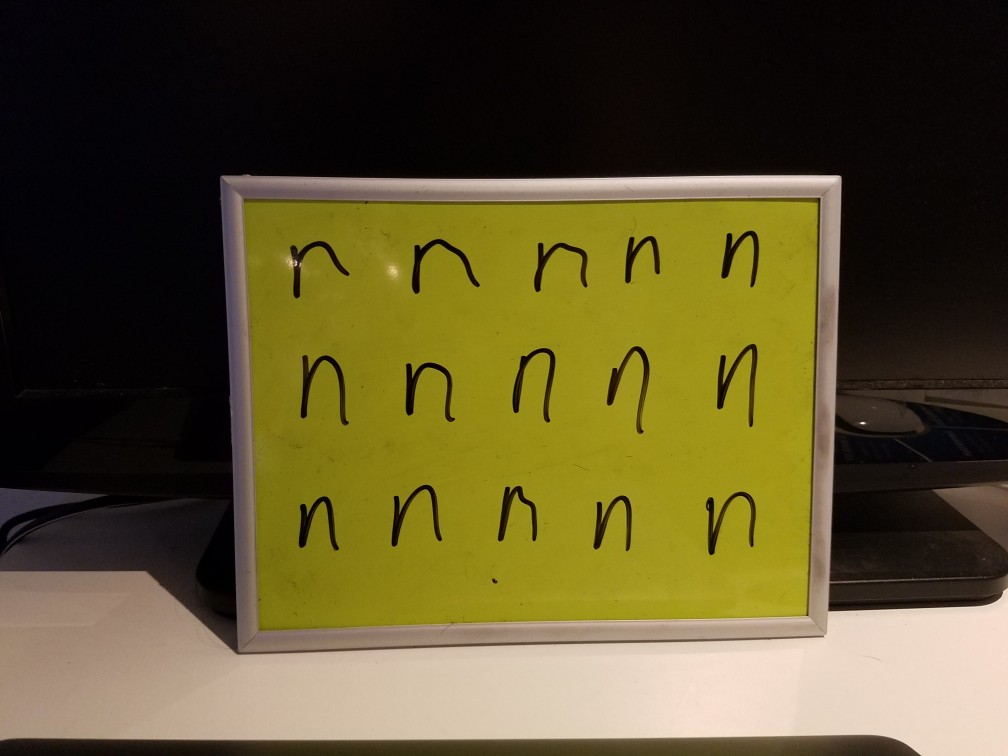n: (497, 330, 574, 440), (593, 333, 663, 441), (509, 223, 598, 304), (383, 345, 462, 435), (704, 328, 773, 428), (287, 340, 364, 429), (380, 471, 458, 557), (689, 476, 768, 560), (276, 227, 356, 304), (400, 226, 482, 301), (611, 220, 677, 299), (291, 475, 348, 563), (488, 476, 547, 556), (585, 488, 650, 559), (709, 217, 765, 295)
